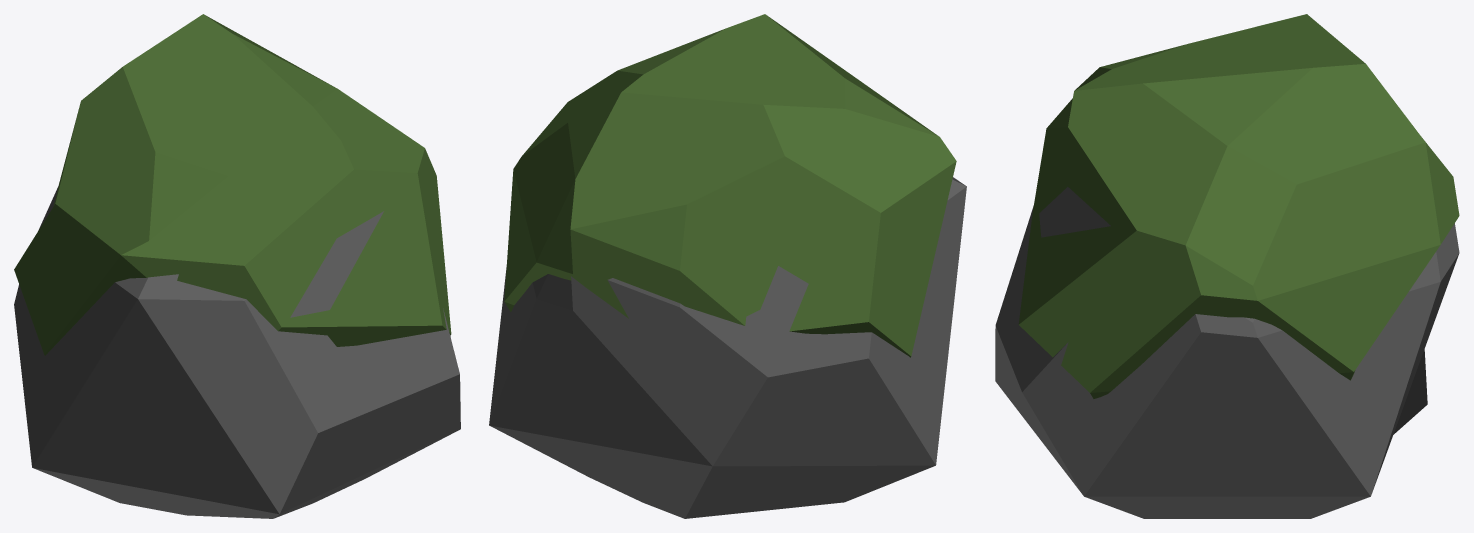
File: Rock_New_1_Mocha.fbx
3 renders of one model, left to right at view 1: azimuth 30°, elevation 25°; view 2: azimuth 150°, elevation 25°; view 3: azimuth 270°, elevation 25°, orthographic. The views are drawn at different scales.
Parts seen in each view (by area): view 1: Icosphere.001, Icosphere; view 2: Icosphere.001, Icosphere; view 3: Icosphere.001, Icosphere.
Part boxes in pixels (x1,y1,x2,y2): Icosphere.001: (14, 14, 451, 355); Icosphere: (14, 186, 460, 518); Icosphere.001: (504, 14, 956, 357); Icosphere: (489, 177, 966, 518); Icosphere.001: (1018, 14, 1459, 398); Icosphere: (995, 187, 1459, 518).
Bounding box in the file's own units: 176 × 173 × 170.
